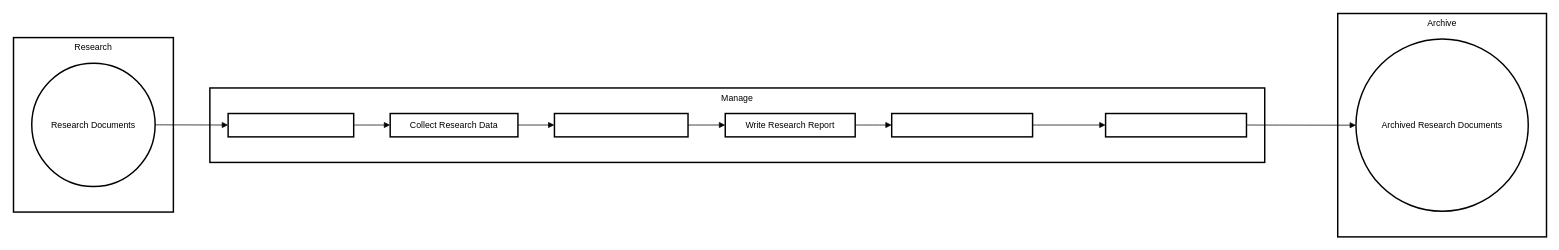
Image size: 1559x250. Some labels were removed from this diagram. The shapes that lost their labels are listed below. From the top down, each one's centre as x and y in pixels, then its label:
the point at 290,124: Create Research Plan
the point at 620,124: Analyze Research Data
the point at 962,124: Review Research Report
the point at 1175,124: Update Research Report
